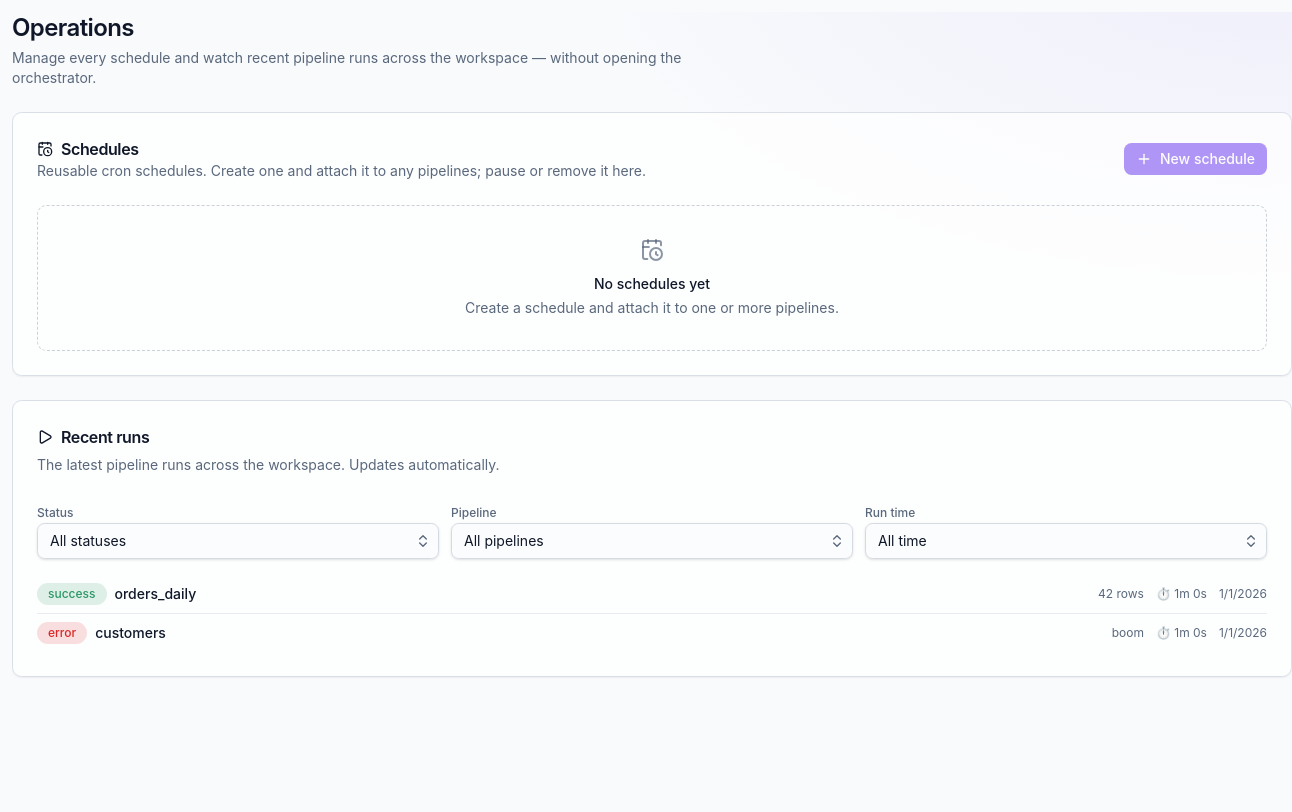
Test case: Operations page › filters the recent-runs feed by status (#2)
Expected: the text "42 rows" is shown, [1098, 586, 1144, 602]
Expected: the text "boom" is shown, [1112, 625, 1144, 641]
// Narrowing to errors drops the successful run's row.
Select "Error" in the dropdown labelled "Status" at (238, 541), box [37, 523, 439, 559]
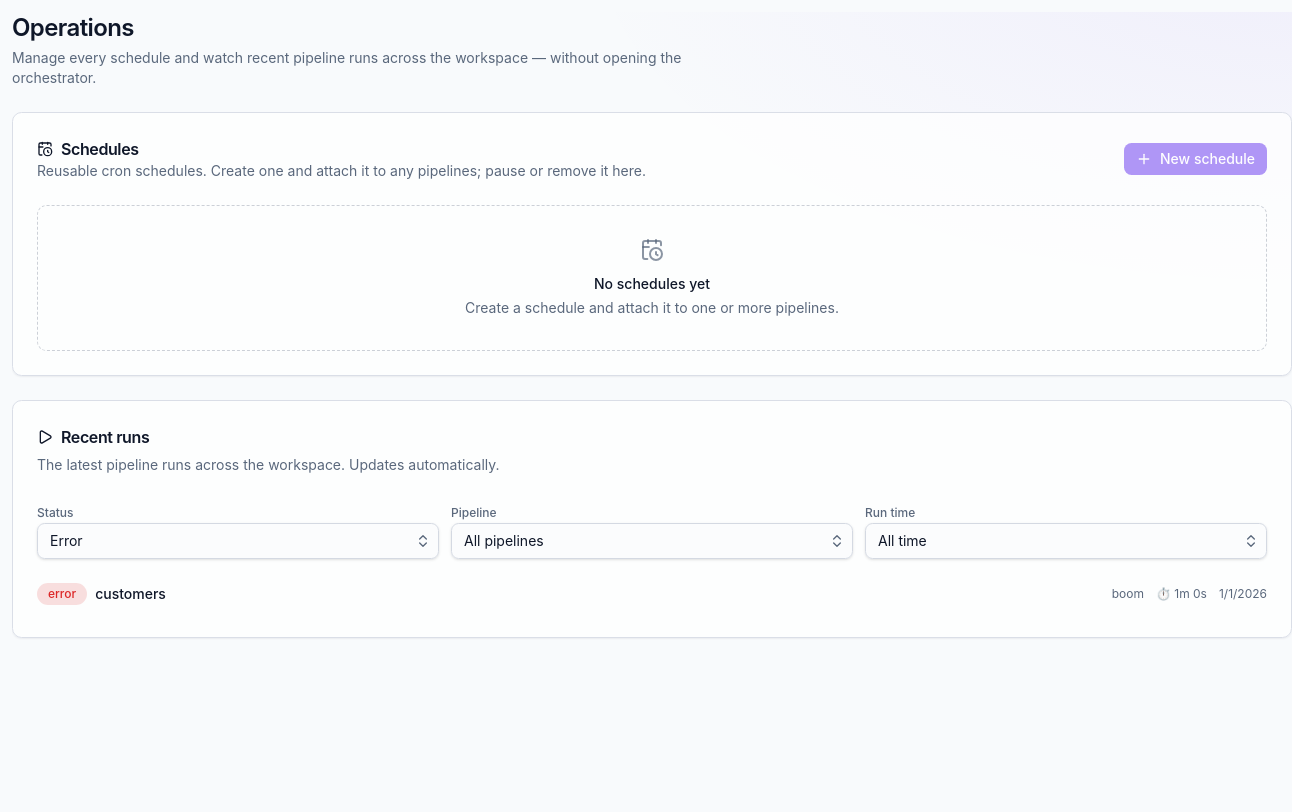
Expected: the text "boom" is shown, [1112, 586, 1144, 602]
Expected: the text "42 rows" is gone
